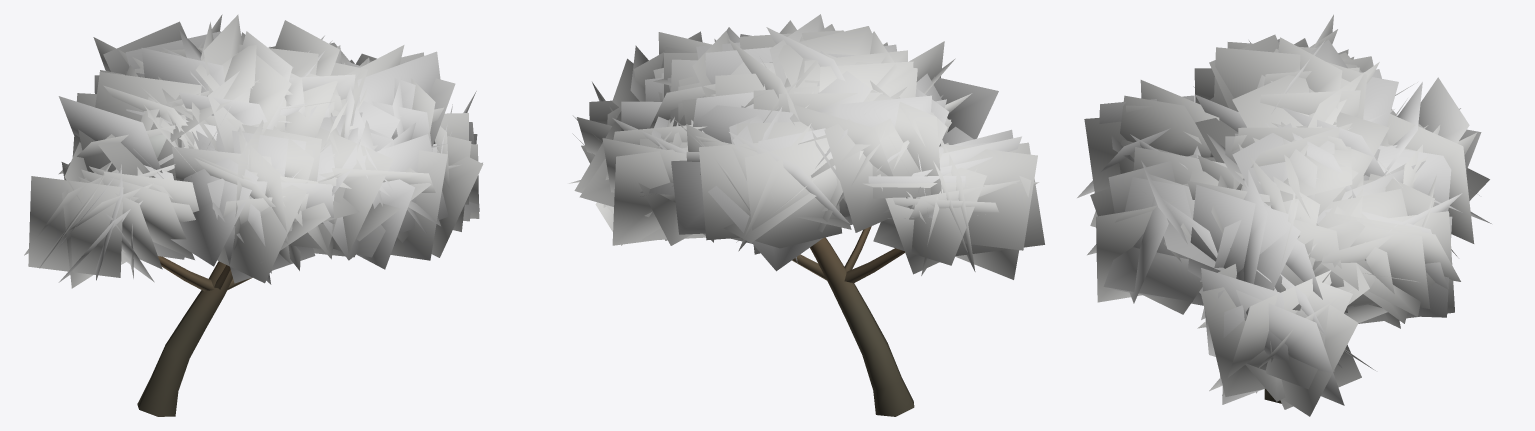
The picture shows the model from 3 angles, left to right: view 1: azimuth 30°, elevation 25°; view 2: azimuth 150°, elevation 25°; view 3: azimuth 270°, elevation 25°; orthographic projection. The views are drawn at different scales.
Parts seen in each view (by area): view 1: crown, trunk; view 2: crown, trunk; view 3: crown.
Boxes of the visible parts, x1,y1,x2,y2 form: crown: (24, 14, 483, 288); trunk: (137, 256, 252, 416); crown: (568, 14, 1044, 279); trunk: (792, 226, 914, 416); crown: (1077, 14, 1491, 416).
Size of the model in its own units: 14.05 by 9.88 by 10.44.
